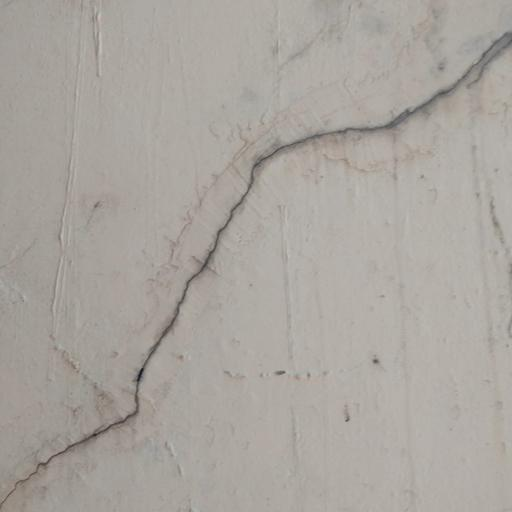major_crack: (25, 15, 512, 491)
